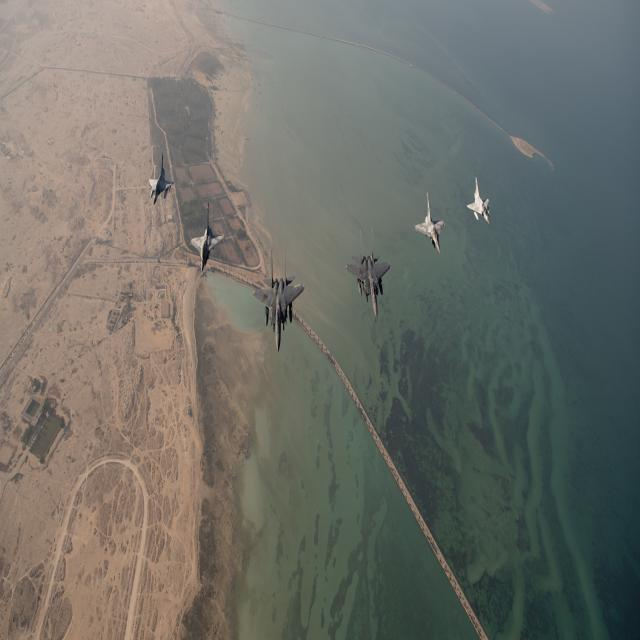MIL_Plane: (252, 244, 304, 354), (346, 226, 392, 320), (190, 201, 225, 273), (414, 190, 446, 254), (149, 151, 175, 205), (466, 176, 490, 226)
